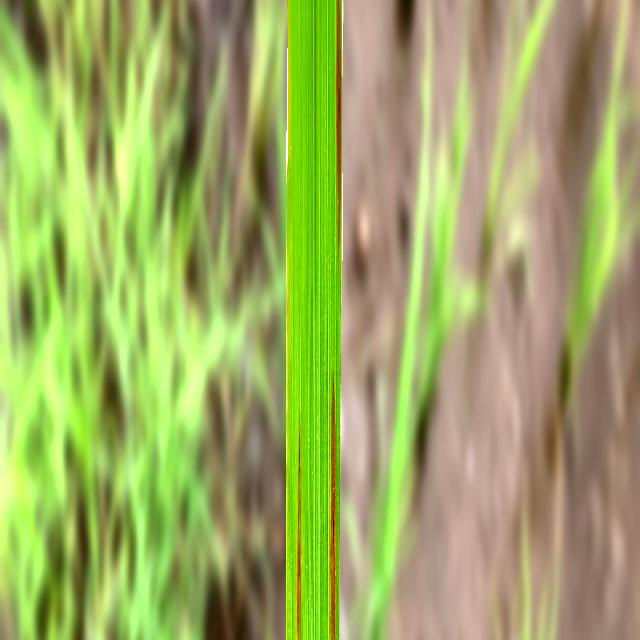NBS: (330, 381, 336, 640), (336, 0, 341, 258), (296, 419, 301, 640)
